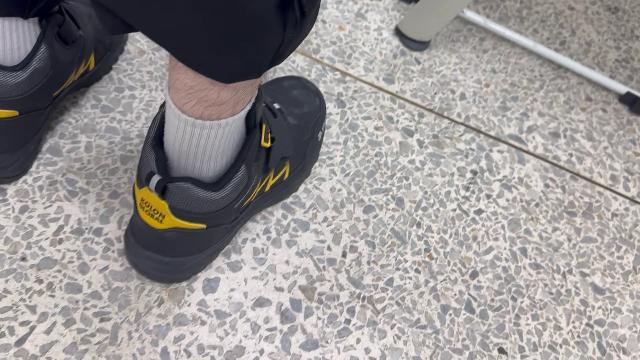shoe_worn: (126, 88, 330, 290), (5, 9, 125, 184)
